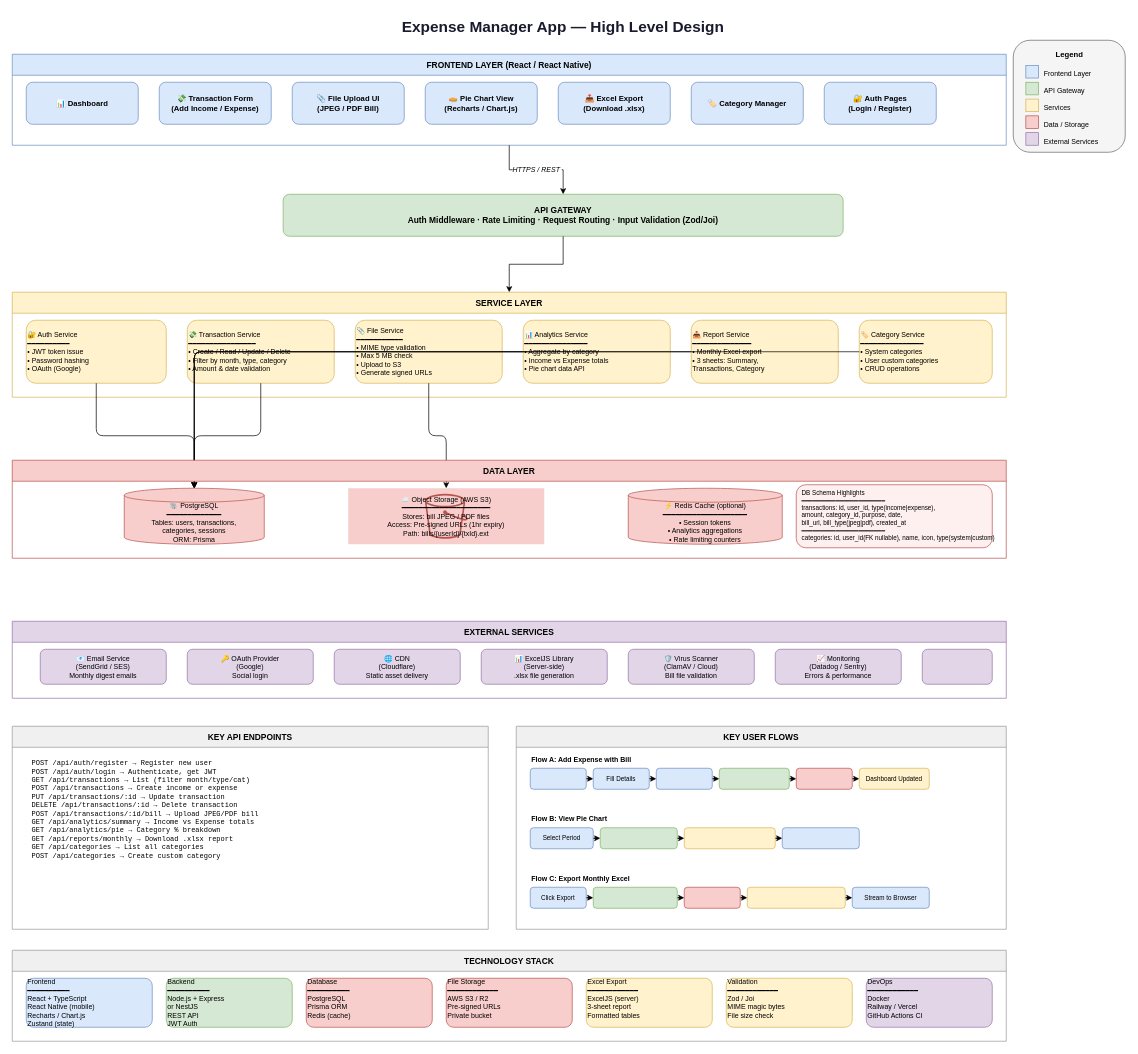
Image size: 1138x1054. Some labels were removed from this diagram. Here are the shapes that lost their labels. From the top down, the centre of each, then its label:
At point 957,666: "🐳 Deployment (Docker + Railway) Containerized backend".
At point 558,778: "Open Form".
At point 684,778: "Attach Bill".
At point 754,778: "POST /transactions".
At point 824,778: "Save to S3".
At point 638,838: "GET /analytics/pie".
At point 729,838: "Aggregate by Category".
At point 820,838: "Render Pie Chart".
At point 635,897: "GET /reports/monthly".
At point 712,897: "Query DB".
At point 796,897: "Generate .xlsx (ExcelJS)".
